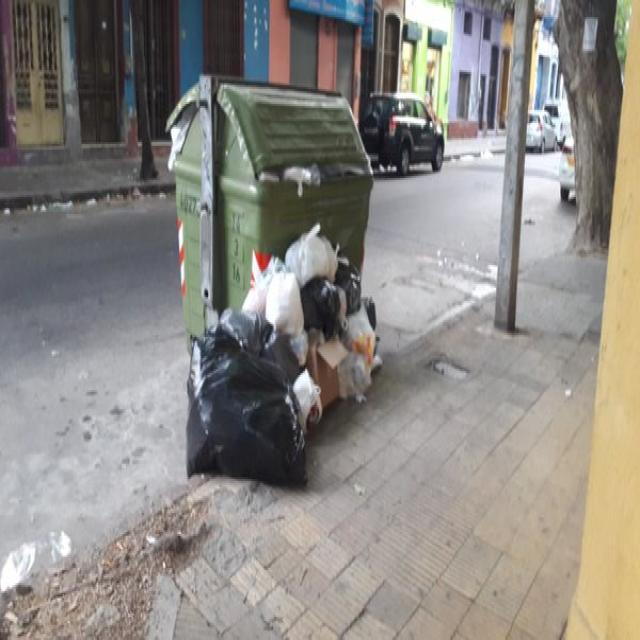garbage: (176, 220, 389, 501), (258, 158, 372, 198), (166, 98, 198, 182)
